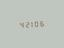four: (18, 20, 22, 28)
one: (28, 20, 32, 27)
six: (38, 19, 42, 27)
two: (23, 20, 27, 28)
zero: (33, 19, 37, 27)
